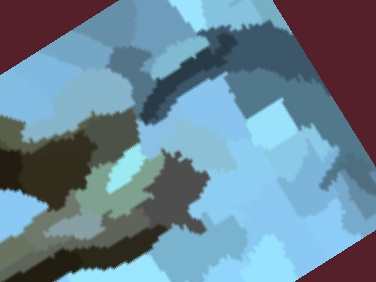washing hand: (0, 0, 339, 281)
